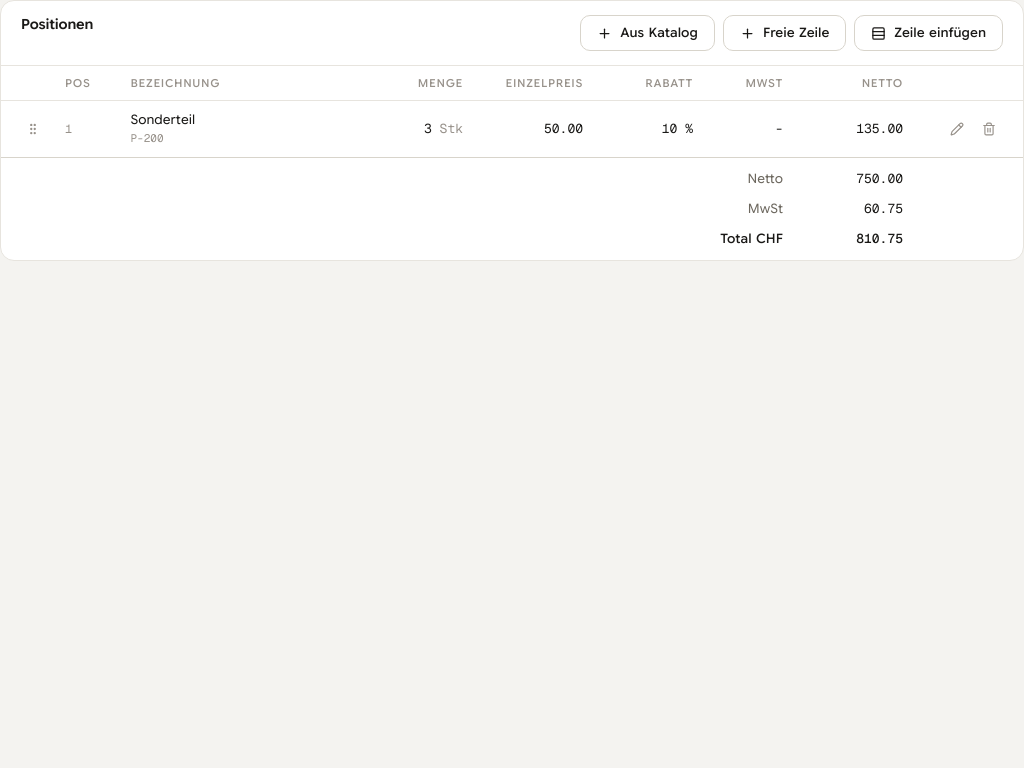
it: DocumentLines › documentLinesWarnsWhenAStoredDiscountIsDroppedTest
Click the button named "Position 1 bearbeiten".
click(957, 129)  # box [943,115,971,143]
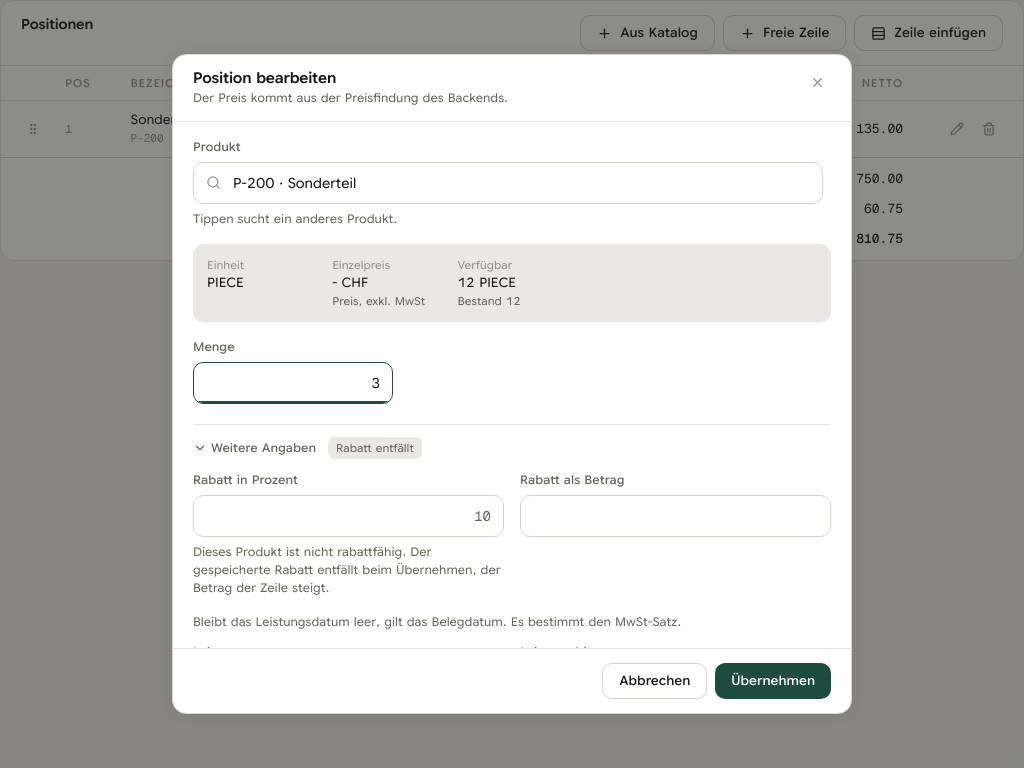
expect the text "Der gespeicherte Rabatt entfällt beim Übernehmen" is shown: met, box [193,544,501,595]
